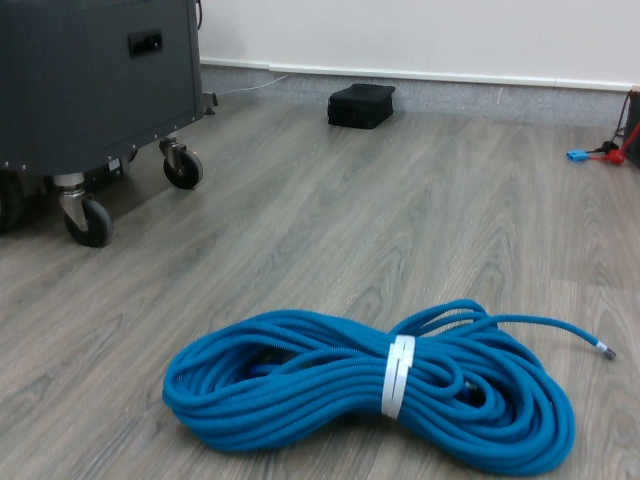rope: (161, 297, 578, 480)
